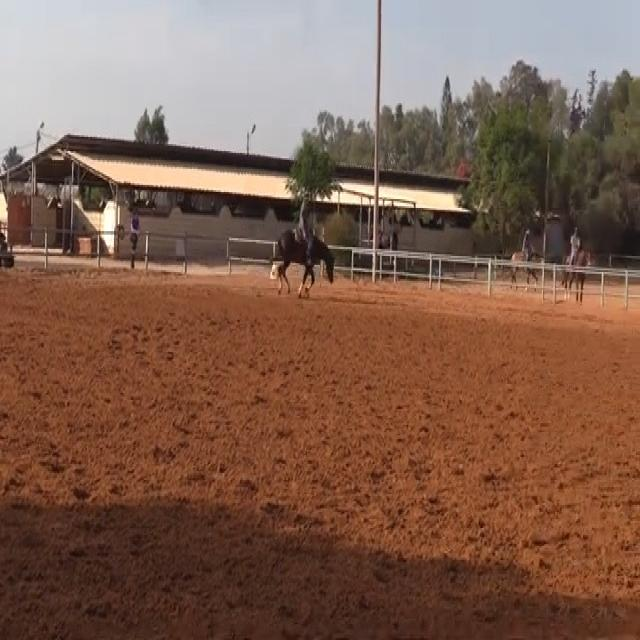horse: (268, 222, 336, 299)
